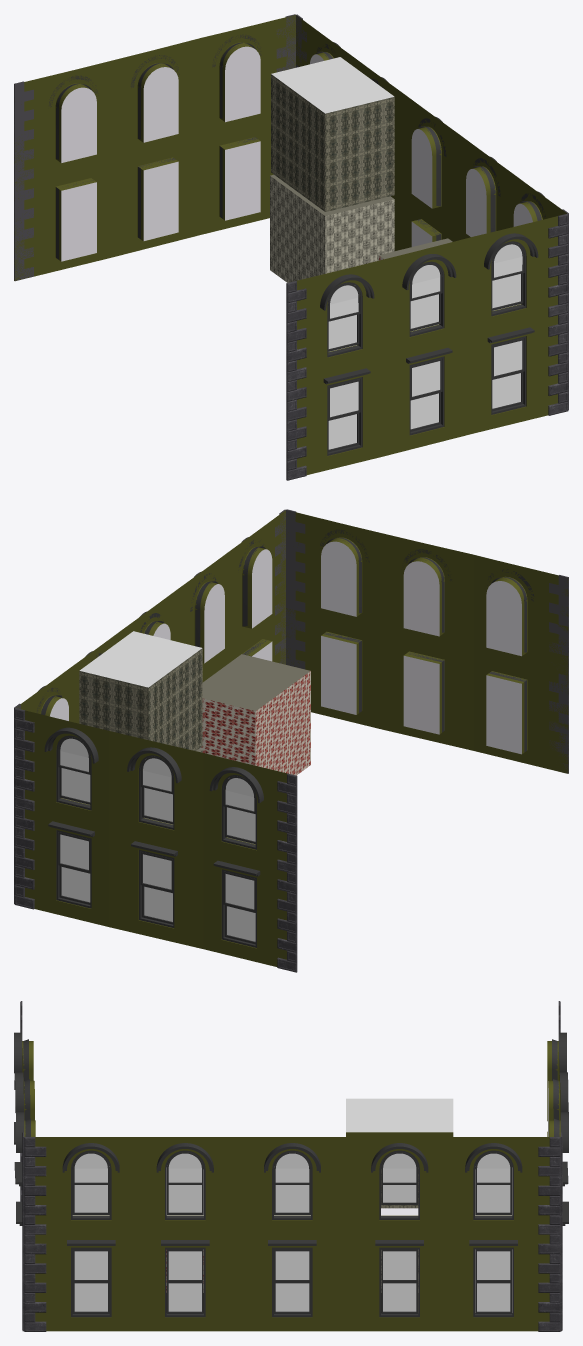
The model's file is дом44.fbx.
The picture shows the model from 3 angles, top to bottom: view 1: azimuth 30°, elevation 25°; view 2: azimuth 150°, elevation 25°; view 3: azimuth 270°, elevation 25°; orthographic projection.
Visible parts, largest first — view 1: Plane.005, Plane.002, Plane.022, Plane.023, Plane.032, Plane.033, Plane.030, Plane.031, Plane.035, Plane.020, Plane.021, Plane.025 (+14 smaller); view 2: Plane.005, Plane.019, Plane.022, Plane.032, Plane.033, Plane.023, Plane.024, Plane.025, Plane.021, Plane.030, Plane.035, Plane.034 (+16 smaller); view 3: Plane.005, Plane.002, Plane.019, Plane.001, Plane.007, Plane.006, Plane.004, Plane.003, Plane.009, Plane.008, Plane.012, Plane.010 (+8 smaller).
Boxes of the visible parts, x1,y1,x2,y2 form: Plane.005: [271, 55, 404, 211]; Plane.002: [270, 174, 404, 282]; Plane.022: [380, 335, 473, 456]; Plane.023: [380, 236, 473, 358]; Plane.032: [109, 136, 201, 258]; Plane.033: [109, 38, 201, 159]; Plane.030: [14, 160, 108, 280]; Plane.031: [14, 61, 108, 182]; Plane.035: [201, 15, 295, 135]; Plane.020: [473, 315, 557, 433]; Plane.021: [473, 216, 557, 334]; Plane.025: [296, 260, 380, 376]; Plane.005: [69, 629, 202, 750]; Plane.019: [199, 648, 310, 775]; Plane.022: [380, 631, 474, 750]; Plane.032: [109, 829, 203, 948]; Plane.033: [109, 731, 203, 850]; Plane.023: [380, 533, 474, 652]; Plane.024: [474, 653, 568, 773]; Plane.025: [474, 555, 568, 675]; Plane.021: [286, 512, 379, 630]; Plane.030: [203, 851, 286, 966]; Plane.035: [25, 710, 108, 828]; Plane.034: [25, 809, 108, 926]; Plane.005: [346, 1098, 453, 1233]; Plane.002: [346, 1234, 453, 1331]; Plane.019: [131, 1234, 238, 1331]; Plane.001: [239, 1234, 345, 1331]; Plane.007: [131, 1137, 238, 1233]; Plane.006: [239, 1137, 345, 1233]; Plane.004: [35, 1234, 131, 1331]; Plane.003: [453, 1234, 549, 1331]; Plane.009: [453, 1137, 549, 1233]; Plane.008: [35, 1137, 131, 1233]; Plane.012: [538, 1234, 560, 1331]; Plane.010: [24, 1234, 46, 1331].
Size of the model in its own units: 615 by 400 by 1035.
